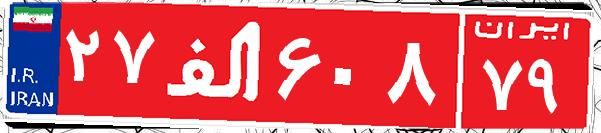0: (330, 28, 385, 110)
2: (57, 26, 110, 107)
6: (273, 28, 330, 110)
7: (475, 38, 525, 113), (110, 28, 158, 105)
8: (385, 28, 445, 110)
9: (525, 38, 570, 115)
الف: (158, 15, 273, 115)
